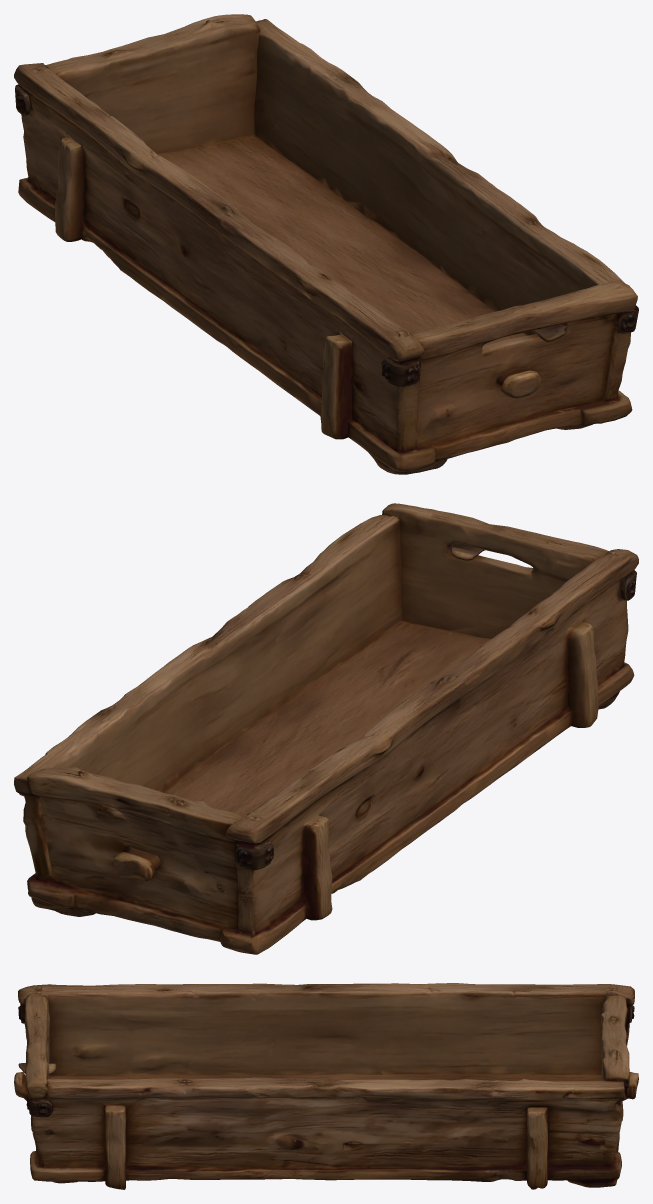
The model's file is bier.glb.
3 renders of one model, top to bottom at view 1: azimuth 30°, elevation 25°; view 2: azimuth 150°, elevation 25°; view 3: azimuth 270°, elevation 25°, orthographic. The views are drawn at different scales.
Parts seen in each view (by area): view 1: tripo_node_94446dbd-42a2-49ac-98e5-b52c0e031f03; view 2: tripo_node_94446dbd-42a2-49ac-98e5-b52c0e031f03; view 3: tripo_node_94446dbd-42a2-49ac-98e5-b52c0e031f03.
Part boxes in pixels (box(x1,y1,x2,y2)): tripo_node_94446dbd-42a2-49ac-98e5-b52c0e031f03: box(14, 14, 638, 474); tripo_node_94446dbd-42a2-49ac-98e5-b52c0e031f03: box(14, 503, 638, 954); tripo_node_94446dbd-42a2-49ac-98e5-b52c0e031f03: box(14, 983, 638, 1189).
Size of the model in its own units: 0.4015 by 0.2142 by 1.
1 material, 1 textured.
